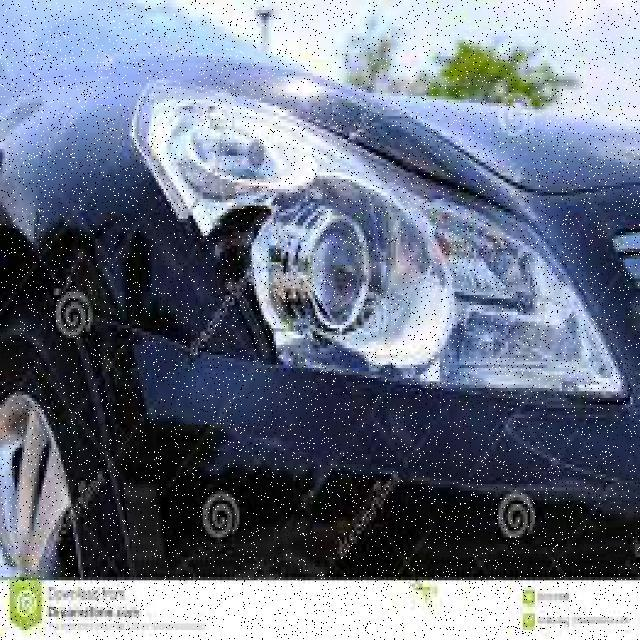Headlight-Damage: (130, 83, 638, 434)
